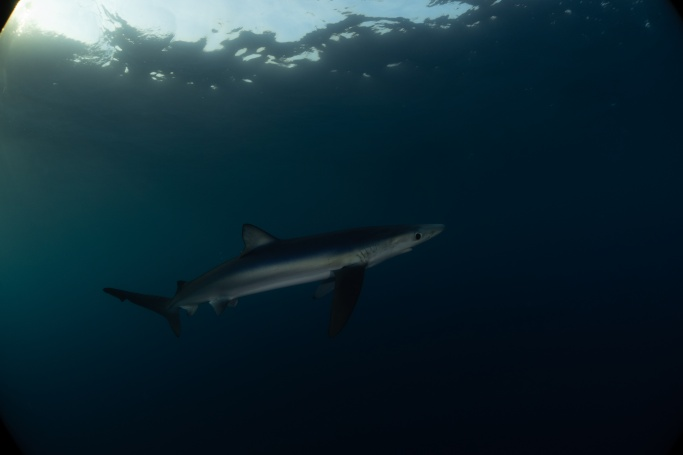Azul: (63, 195, 475, 361)
